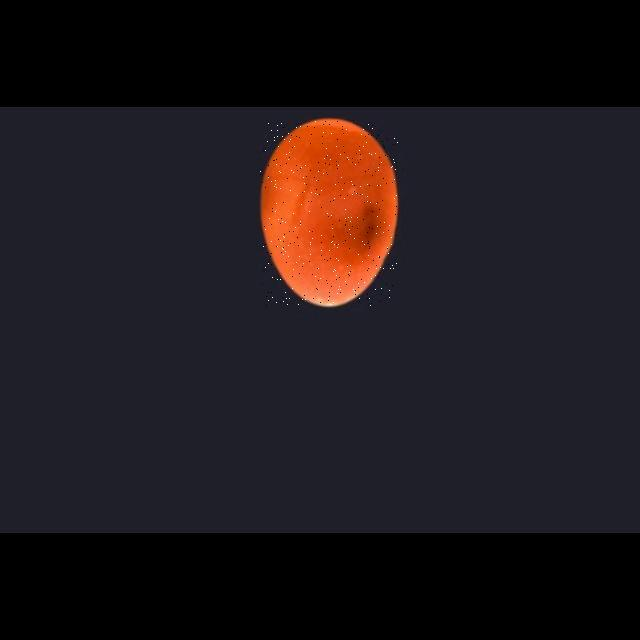Fertile: (260, 120, 398, 306)
